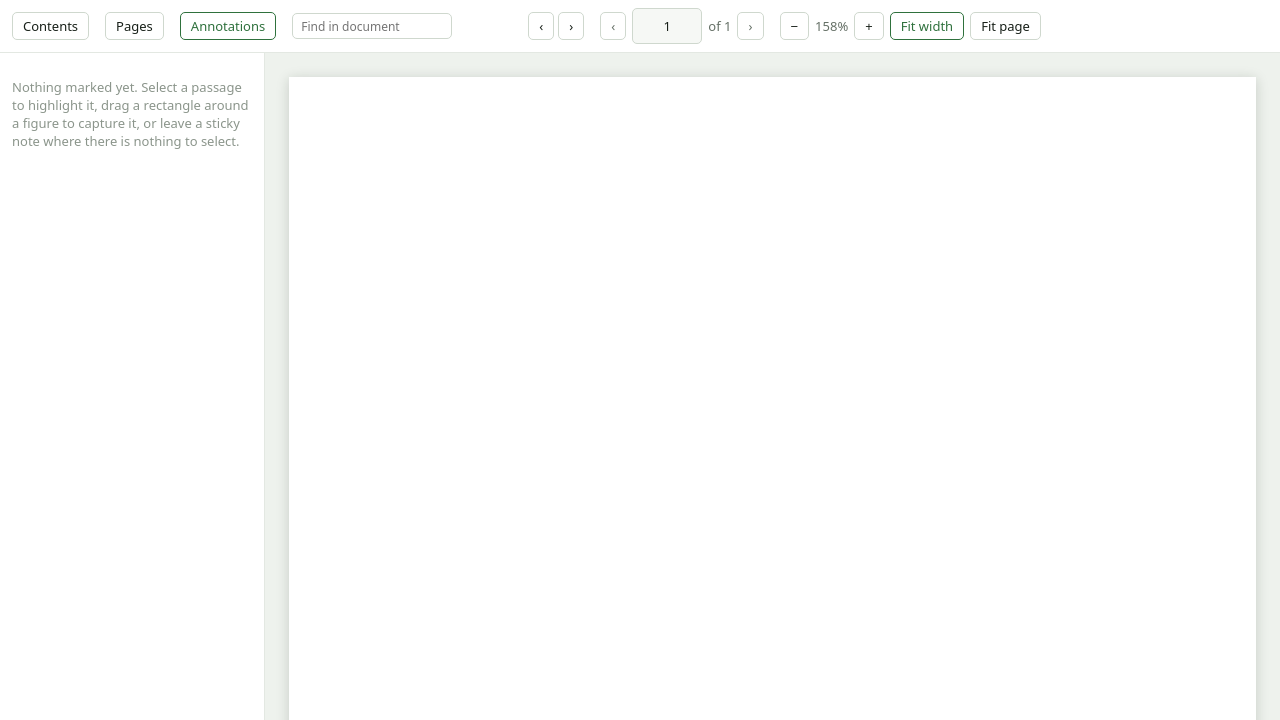
Scenario: finding words in a document › says so when nothing matches, rather than looking broken
Check: the text "of 1" is shown, box [708, 17, 732, 35]
In the search field labelled "Find in document": [372, 26] box [292, 13, 452, 39], type "telepathy"
Then press Enter
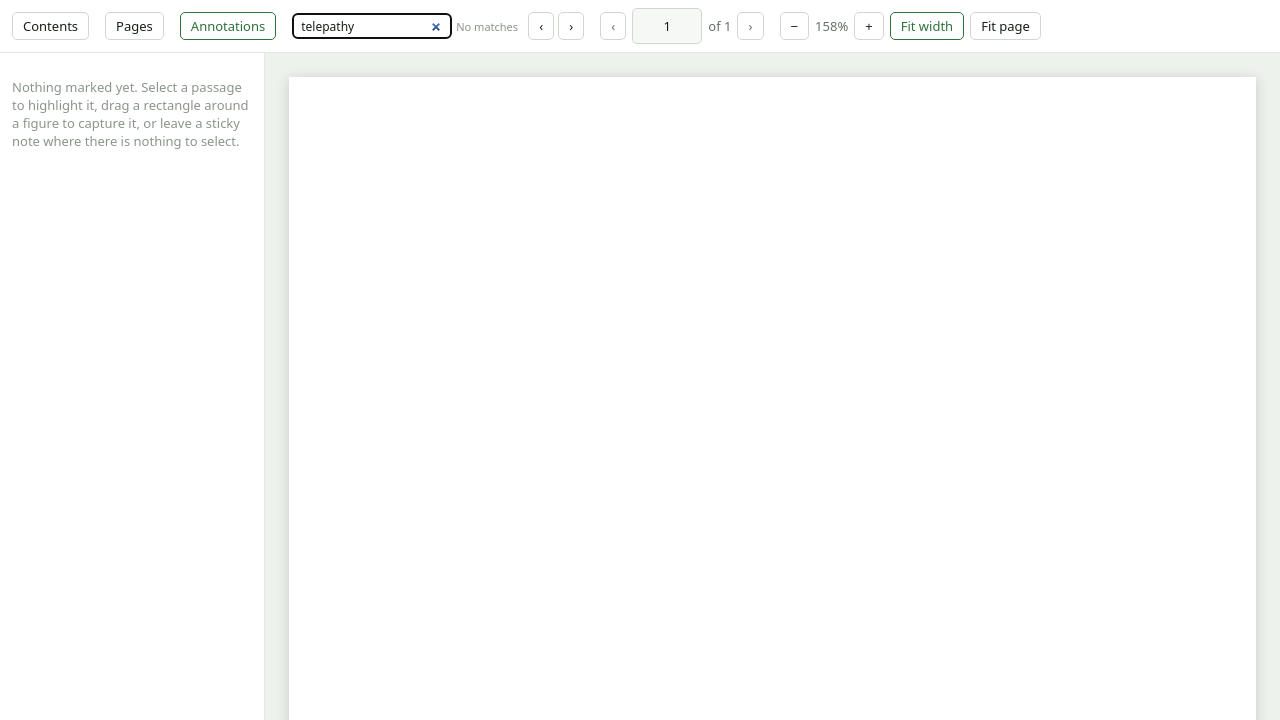
Check: the text "No matches" is shown, box [456, 18, 524, 34]
